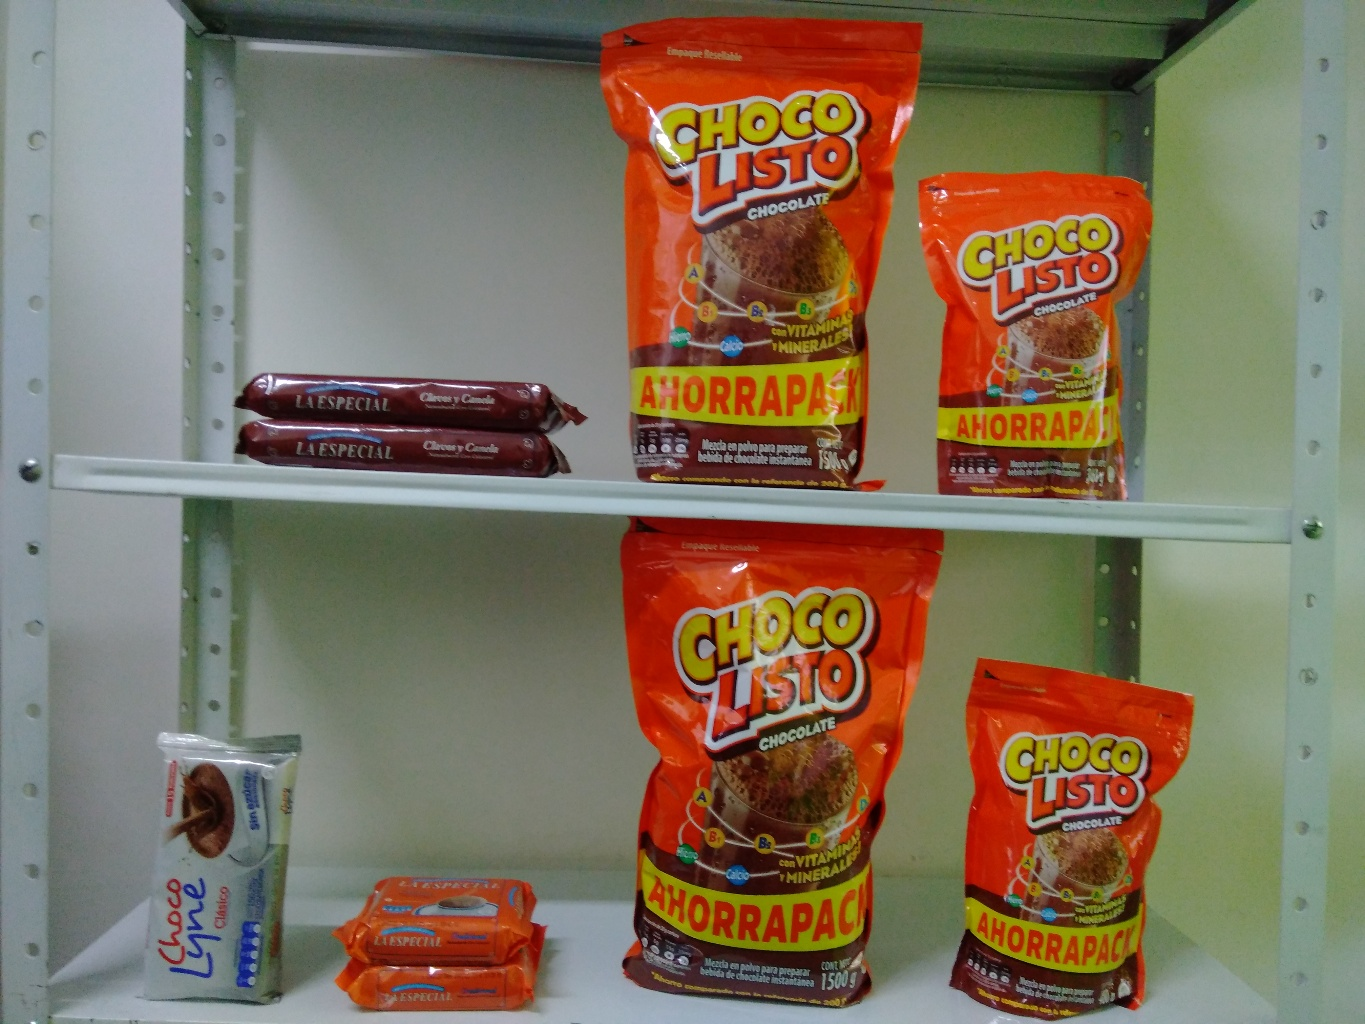COL0170103DYP1,500: (586, 9, 920, 499)
COL0170103DYP36000: (902, 159, 1172, 516)
COL0170103DYP40000: (936, 641, 1205, 1020)
